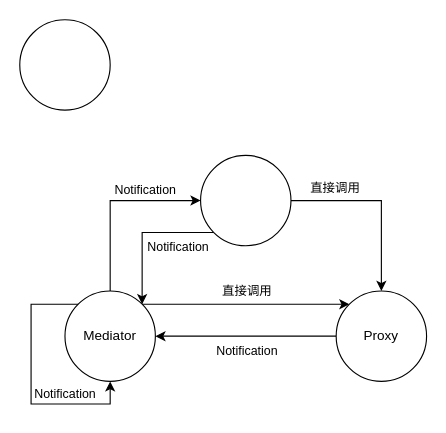
Image size: 446x433. Some labels were removed from this diagram. Each missing label, with the centre of its shape:
Command: (x=245, y=200)
Facade: (x=64, y=64)
